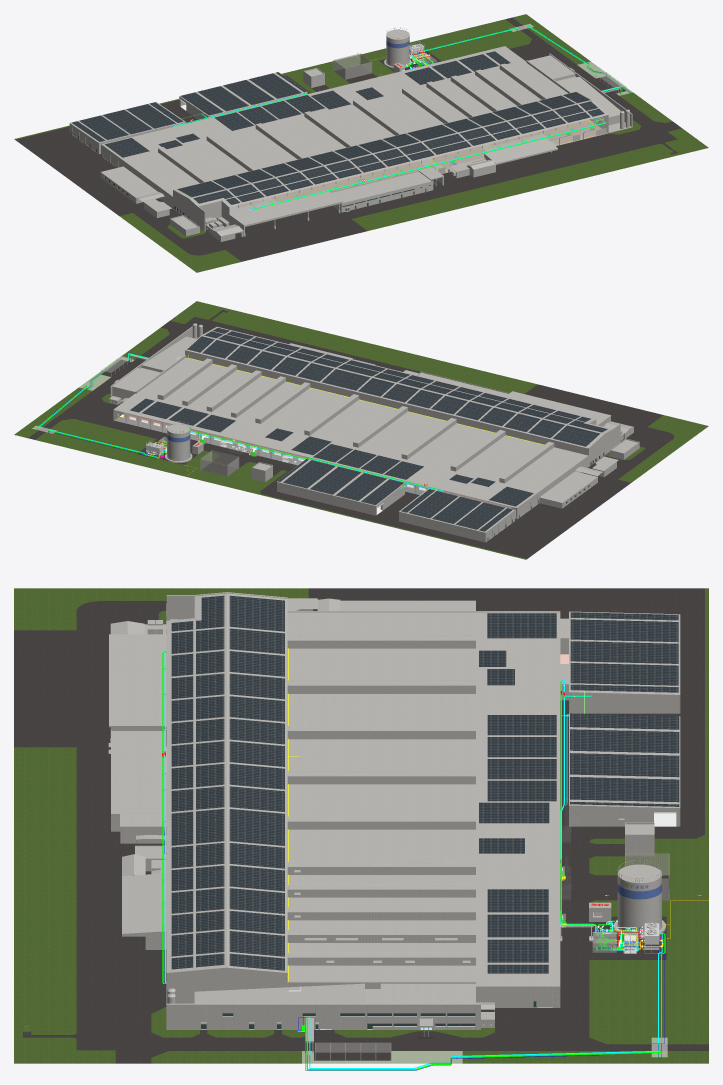
Rendered from 广州双叶厂房.glb.
3 views of the same model, one above another, from view 1: azimuth 30°, elevation 25°; view 2: azimuth 150°, elevation 25°; view 3: azimuth 270°, elevation 25° (orthographic). The views are drawn at different scales.
Visible parts, largest first — view 1: 建筑屋顶, 场地, 建筑墙体, 建筑内部地面, BIM_蓄冷水罐_1_, 建筑门窗, BIM_开关阀_11_/02, BIM_开关阀_11_/01; view 2: 建筑屋顶, 场地, 建筑墙体, 建筑内部地面, BIM_蓄冷水罐_1_; view 3: 建筑屋顶, 场地, 建筑墙体, BIM_蓄冷水罐_1_, 建筑门窗, 管道_绿_常流动.001, 管道_青_常流动.
Part boxes in pixels (<box>): 建筑屋顶: <box>70,46,620,229</box>; 场地: <box>14,14,708,272</box>; 建筑墙体: <box>69,53,632,241</box>; 建筑内部地面: <box>73,104,607,213</box>; BIM_蓄冷水罐_1_: <box>384,27,411,68</box>; 建筑门窗: <box>71,128,606,220</box>; BIM_开关阀_11_/02: <box>251,117,606,209</box>; BIM_开关阀_11_/01: <box>249,118,604,210</box>; 建筑屋顶: <box>113,326,637,532</box>; 场地: <box>14,301,708,559</box>; 建筑墙体: <box>101,323,639,542</box>; 建筑内部地面: <box>115,413,599,538</box>; BIM_蓄冷水罐_1_: <box>165,421,192,462</box>; 建筑屋顶: <box>109,593,680,1003</box>; 场地: <box>14,588,708,1063</box>; 建筑墙体: <box>108,592,680,1060</box>; BIM_蓄冷水罐_1_: <box>613,860,665,938</box>; 建筑门窗: <box>201,994,552,1029</box>; 管道_绿_常流动.001: <box>306,933,665,1070</box>; 管道_青_常流动: <box>309,932,662,1068</box>.
Size of what is drawn, in the model's own units: 379 by 23.84 by 233.
35 materials, 12 textured.
